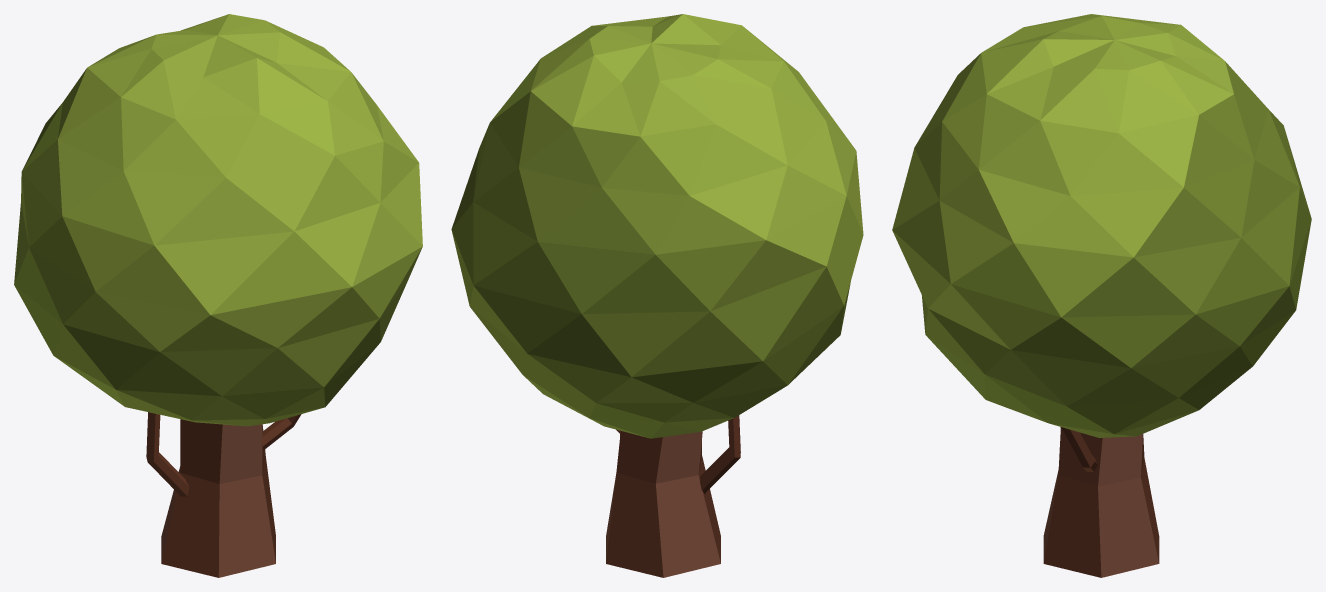
Rendered from tree8.fbx.
3 renders of one model, left to right at view 1: azimuth 30°, elevation 25°; view 2: azimuth 150°, elevation 25°; view 3: azimuth 270°, elevation 25°, orthographic.
Parts seen in each view (by area): view 1: Ağaç8_Mesh; view 2: Ağaç8_Mesh; view 3: Ağaç8_Mesh.
Part boxes in pixels (left/top/right/bottom): Ağaç8_Mesh: left=14, top=14, right=422, bottom=577; Ağaç8_Mesh: left=451, top=14, right=863, bottom=577; Ağaç8_Mesh: left=892, top=14, right=1311, bottom=577.
Bounding box in the file's own units: 2.99 × 4.16 × 3.07.
